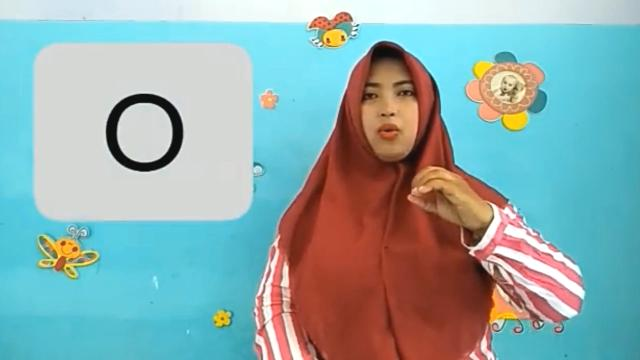O: (402, 163, 490, 232)
